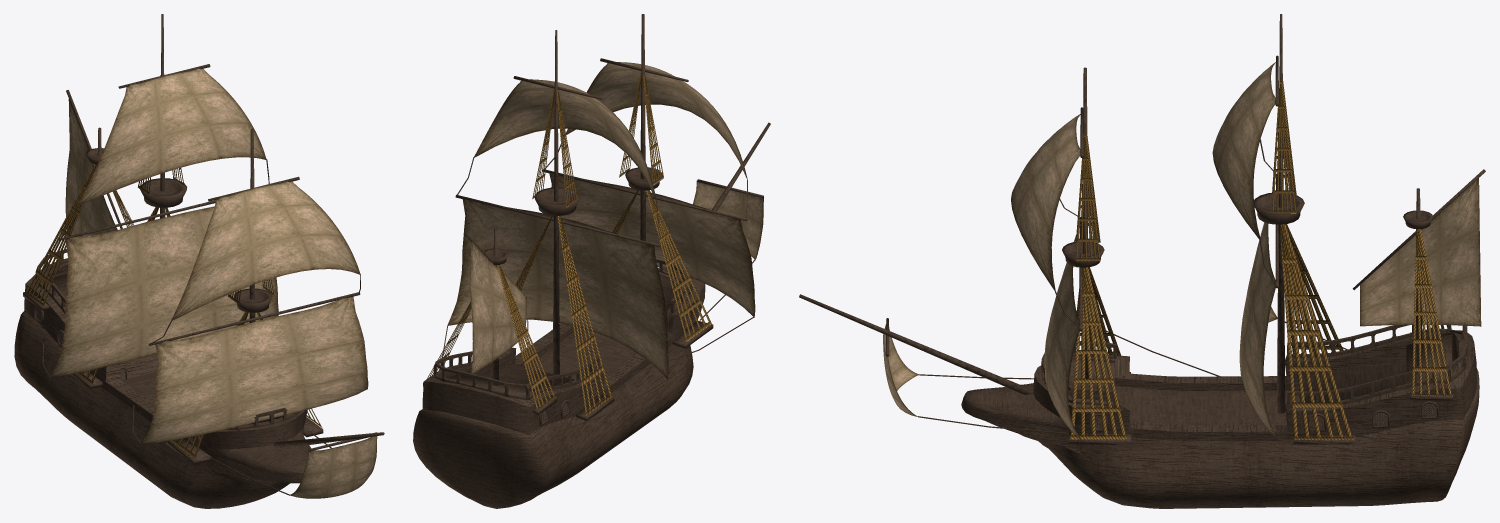
Rendered from FragataPrototipo.fbx.
3 renders of one model, left to right at view 1: azimuth 30°, elevation 25°; view 2: azimuth 150°, elevation 25°; view 3: azimuth 270°, elevation 25°, orthographic. The views are drawn at different scales.
Parts seen in each view (by area): view 1: Plane.004, Cube, Plane.005, Plane.006, Plane.007, Plane.008, Plane.009, Plane.013, Cylinder.001, Cube.008, Cylinder.002, Cube.012 (+6 smaller); view 2: Cube, Plane.030, Plane.028, Plane.031, Plane.019, Plane.009, Plane.001, Cube.015, Plane.029, Plane.003, Cube.030, Cube.002 (+18 smaller); view 3: Cube, Plane.032, Plane.006, Plane.027, Plane.007, Cube.015, Plane.005, Plane.002, Plane.004, Plane.012, Cube.030, Cube.012 (+10 smaller).
Boxes of the visible parts, x1,y1,x2,y2 form: Plane.004: (140,297,368,444); Cube: (14,258,311,508); Plane.005: (50,206,278,377); Plane.006: (171,181,360,320); Plane.007: (77,68,266,205); Plane.008: (289,436,377,498); Plane.009: (65,99,116,237); Plane.013: (25,164,96,305); Cylinder.001: (140,178,187,207); Cube.008: (148,292,360,345); Cylinder.002: (234,288,272,312); Cube.012: (120,354,157,380); Cube: (413,268,705,508); Plane.030: (447,199,668,378); Plane.028: (549,173,754,317); Plane.031: (473,79,656,201); Plane.019: (566,62,747,179); Plane.009: (470,240,526,373); Plane.001: (557,215,612,415); Cube.015: (527,327,636,379); Plane.029: (693,181,763,259); Plane.003: (646,190,711,341); Cube.030: (433,351,599,400); Cube.002: (552,30,559,374); Cube: (961,330,1479,508); Plane.032: (1360,178,1481,326); Plane.006: (1011,114,1080,291); Plane.027: (1280,224,1353,439); Plane.007: (1212,62,1275,240); Cube.015: (1115,385,1287,425); Plane.005: (1239,222,1277,439); Plane.002: (1070,267,1126,439); Plane.004: (1044,235,1081,440); Plane.012: (1411,229,1451,398); Cube.030: (1287,324,1467,407); Cube.012: (1300,363,1406,402).
Size of the model in its own units: 1218 by 2263 by 2904.
Materials: 4 (4 with a texture image).
